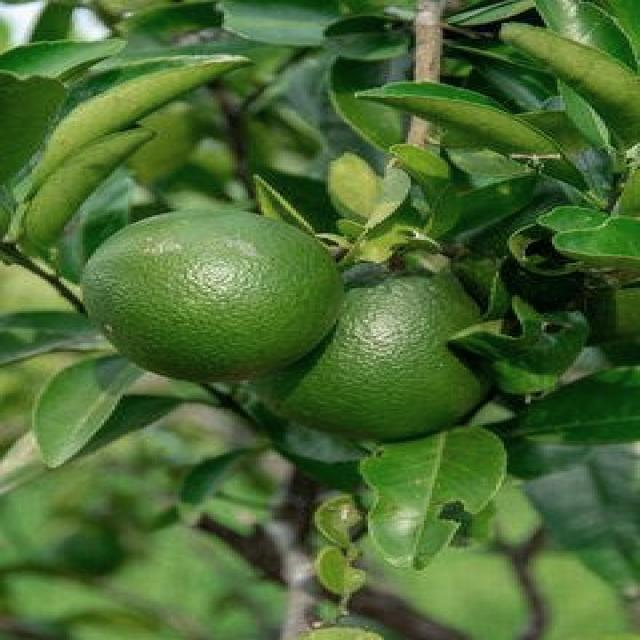Jeruk Belum Matang: (88, 208, 344, 382), (256, 263, 491, 436)
